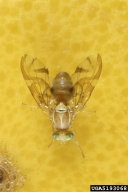Fruit fly: (20, 49, 107, 150)
